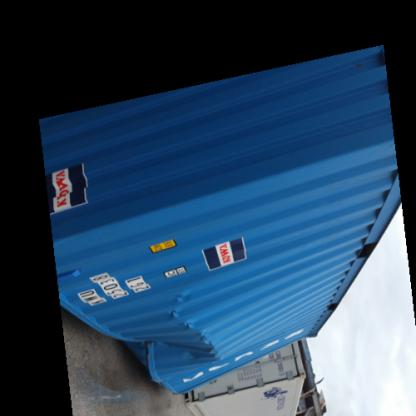Damage: (115, 286, 228, 384)
